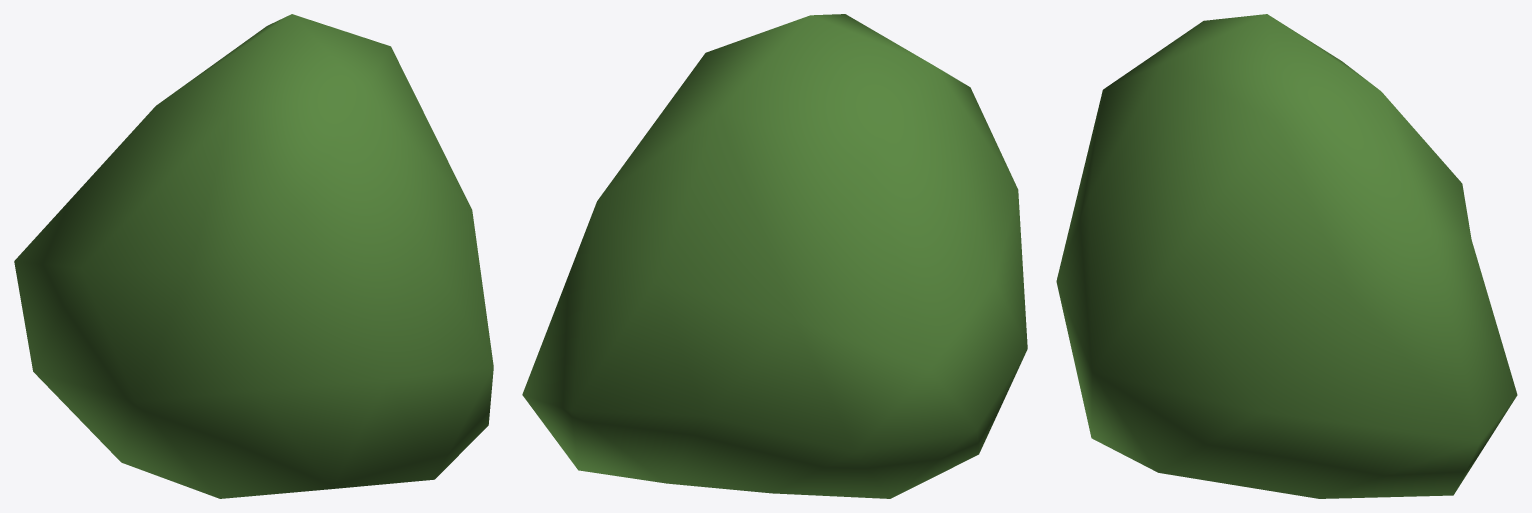
File: Bush1.fbx
3 views of the same model, side by side, from view 1: azimuth 30°, elevation 25°; view 2: azimuth 150°, elevation 25°; view 3: azimuth 270°, elevation 25° (orthographic). The views are drawn at different scales.
Visible parts, largest first — view 1: bush1; view 2: bush1; view 3: bush1.
Boxes of the visible parts, x1=… form: bush1: x1=14, y1=14, x2=493, y2=498; bush1: x1=522, y1=14, x2=1027, y2=498; bush1: x1=1056, y1=14, x2=1517, y2=498.
Size of the model in its own units: 79.91 by 82.93 by 82.63.
